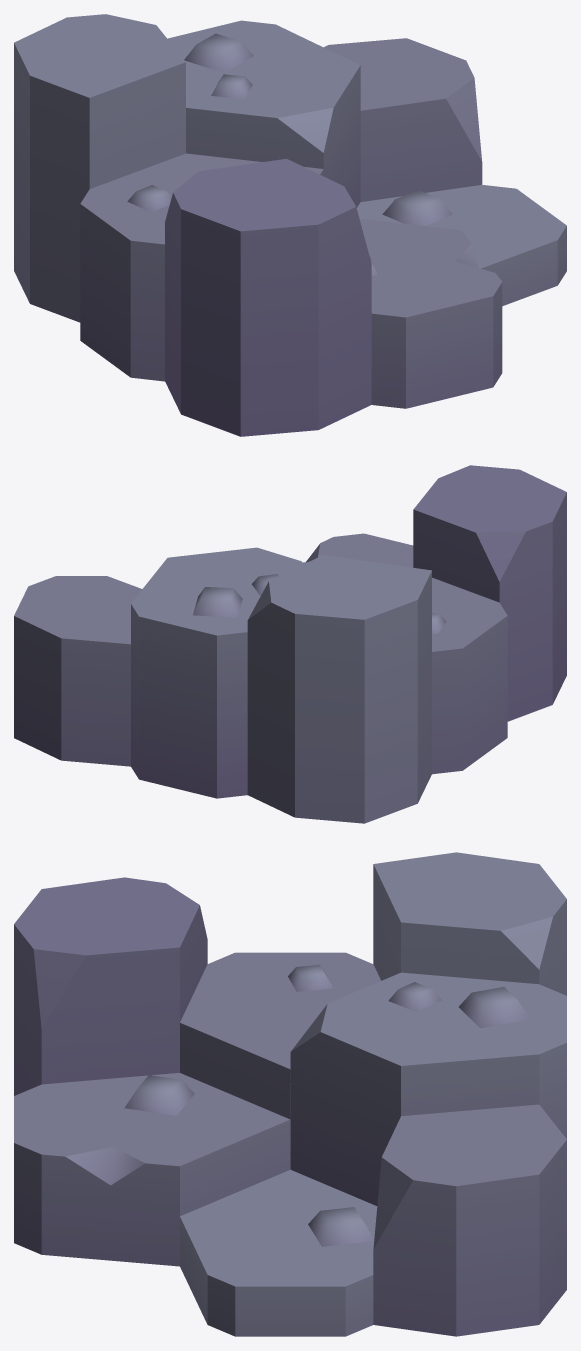
Rendered from forest_rocks-ramp.obj.
3 views of the same model, one above another, from view 1: azimuth 30°, elevation 25°; view 2: azimuth 150°, elevation 25°; view 3: azimuth 270°, elevation 25° (orthographic). The views are drawn at different scales.
Parts seen in each view (by area): view 1: rocks-ramp; view 2: rocks-ramp; view 3: rocks-ramp.
Part boxes in pixels (left/top/right/bottom): rocks-ramp: left=14, top=14, right=566, bottom=436; rocks-ramp: left=14, top=465, right=566, bottom=823; rocks-ramp: left=14, top=852, right=566, bottom=1336.
Bounding box in the file's own units: 1 × 0.5 × 1.
1 material, 1 textured.
